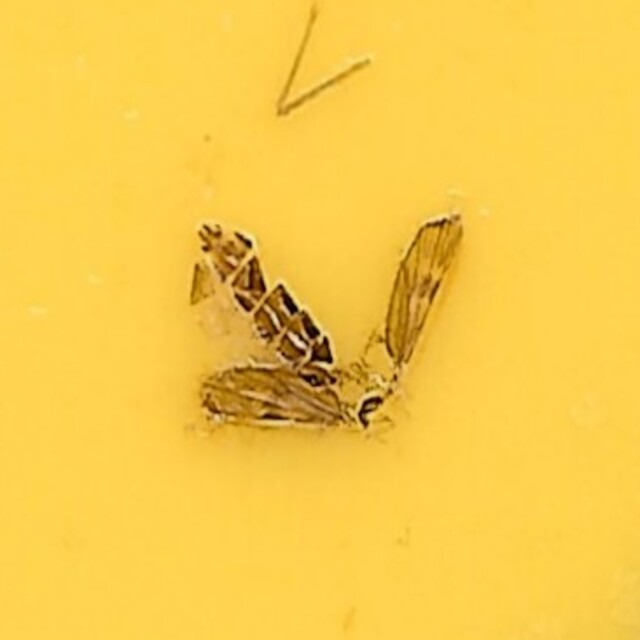Nematocera: (175, 208, 465, 432)
